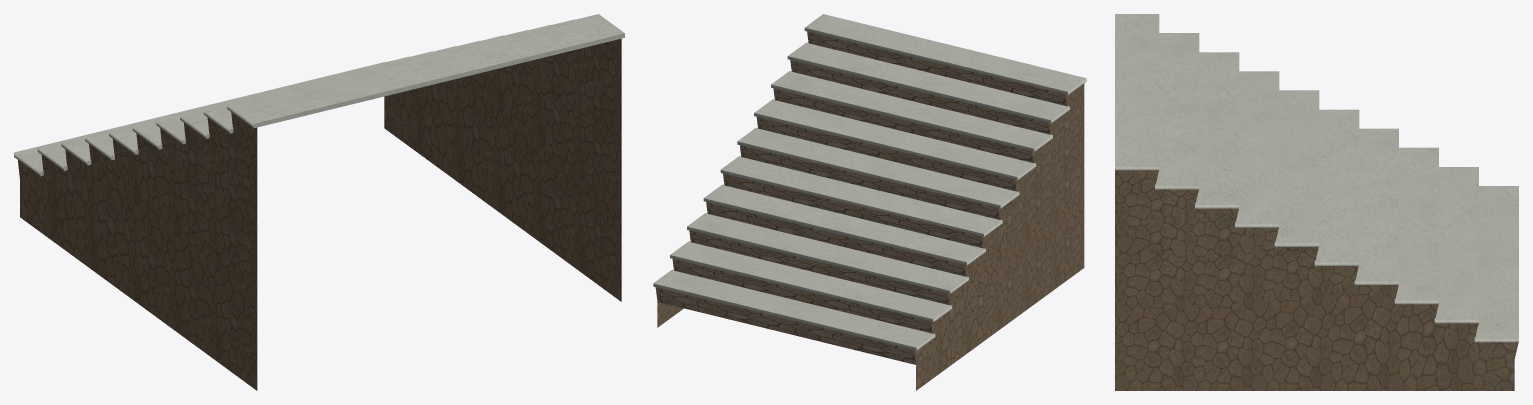
Rendered from OutSideStairs_001.fbx.
3 renders of one model, left to right at view 1: azimuth 30°, elevation 25°; view 2: azimuth 150°, elevation 25°; view 3: azimuth 270°, elevation 25°, orthographic. The views are drawn at different scales.
Parts seen in each view (by area): view 1: OutSideStairs_001; view 2: OutSideStairs_001; view 3: OutSideStairs_001.
Boxes of the visible parts, x1,y1,x2,y2 form: OutSideStairs_001: (14, 14, 624, 390); OutSideStairs_001: (653, 14, 1086, 390); OutSideStairs_001: (1115, 14, 1518, 390).
Bounding box in the file's own units: 14.19 × 9.79 × 15.87.
